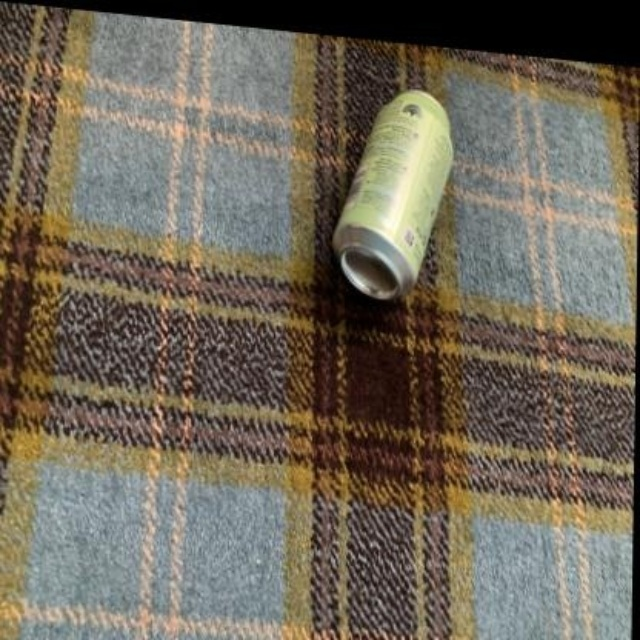trash: (332, 91, 452, 298)
